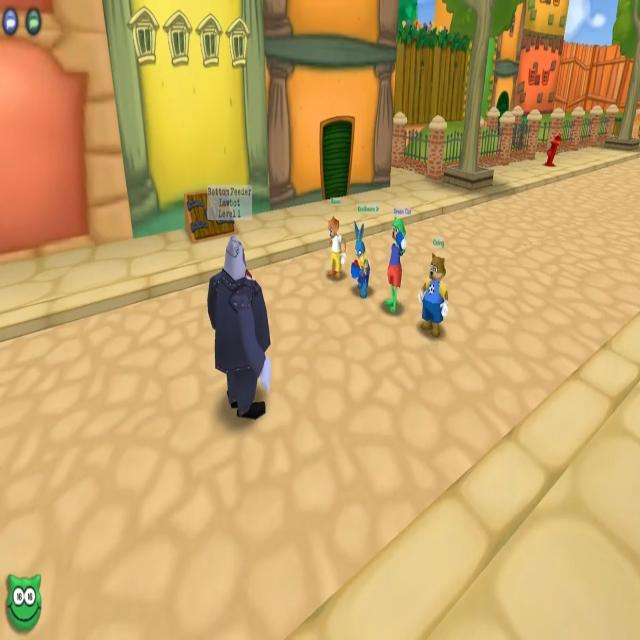bottomfeeder: (205, 179, 271, 418)
